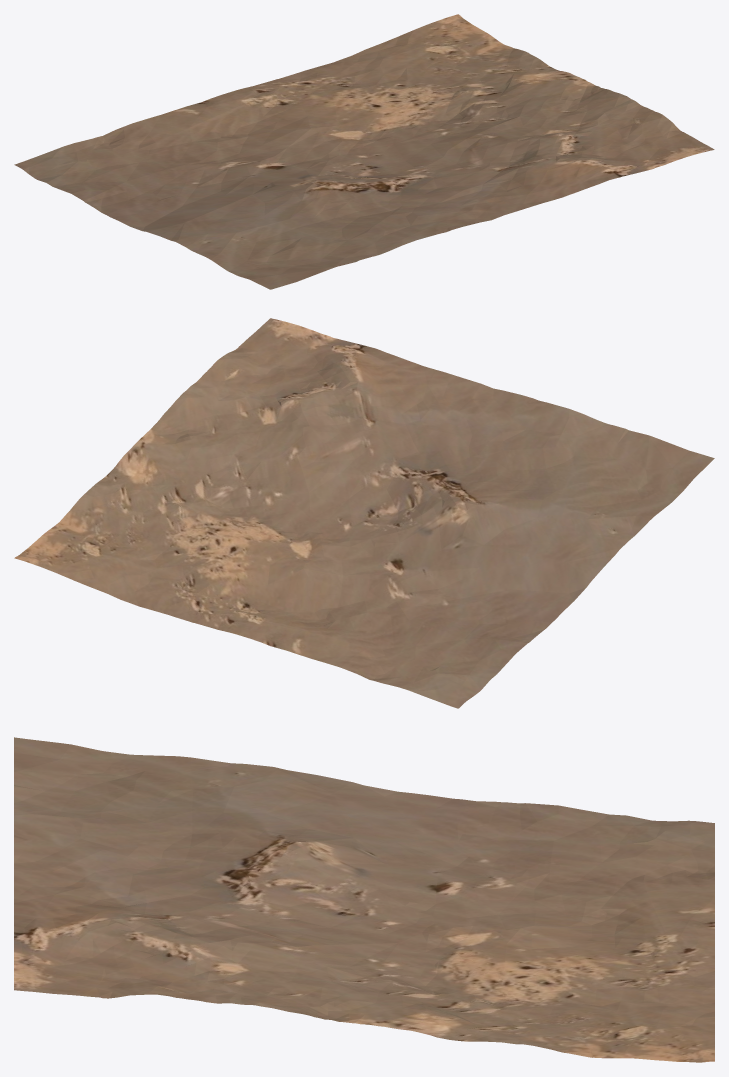
3 views of the same model, one above another, from view 1: azimuth 30°, elevation 25°; view 2: azimuth 150°, elevation 25°; view 3: azimuth 270°, elevation 25° (orthographic). The views are drawn at different scales.
Bounding box in the file's own units: 2.09 × 0.425 × 2.09.
Materials: 2 (2 with a texture image).
